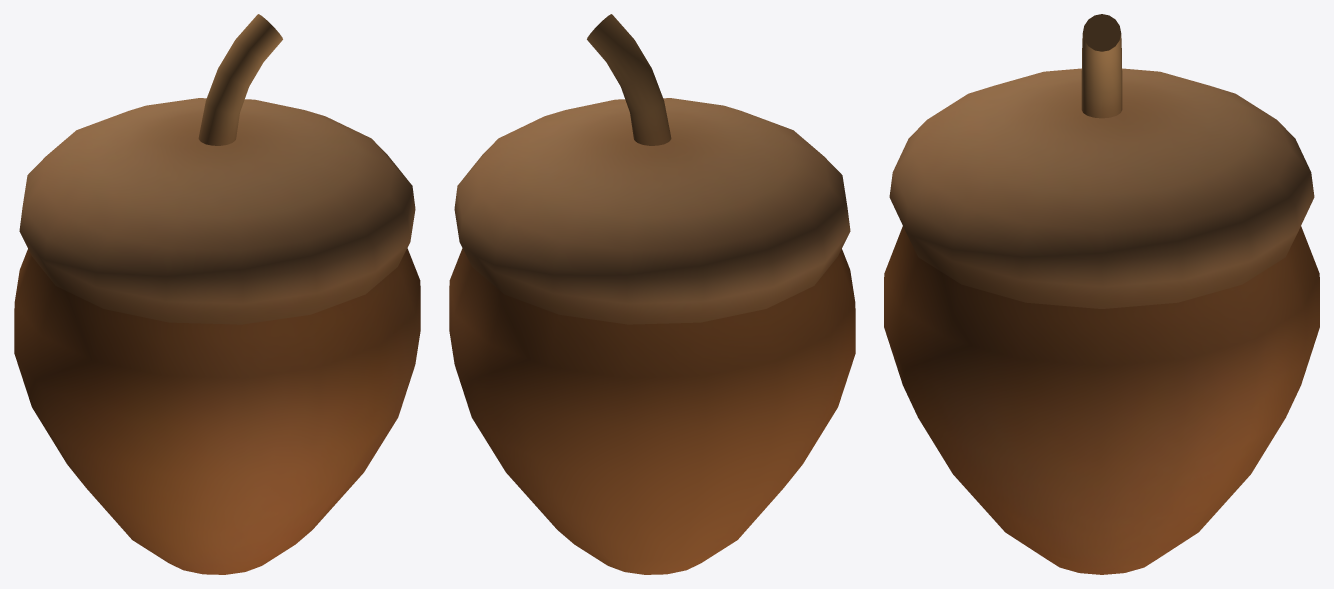
The model's file is Acorn.FBX.
3 views of the same model, side by side, from view 1: azimuth 30°, elevation 25°; view 2: azimuth 150°, elevation 25°; view 3: azimuth 270°, elevation 25° (orthographic). The views are drawn at different scales.
Parts seen in each view (by area): view 1: acorn; view 2: acorn; view 3: acorn.
Part boxes in pixels (bbox=[...]): acorn: bbox=[14, 14, 420, 574]; acorn: bbox=[449, 14, 855, 574]; acorn: bbox=[884, 14, 1319, 574].
Bounding box in the file's own units: 109 × 161 × 109.
